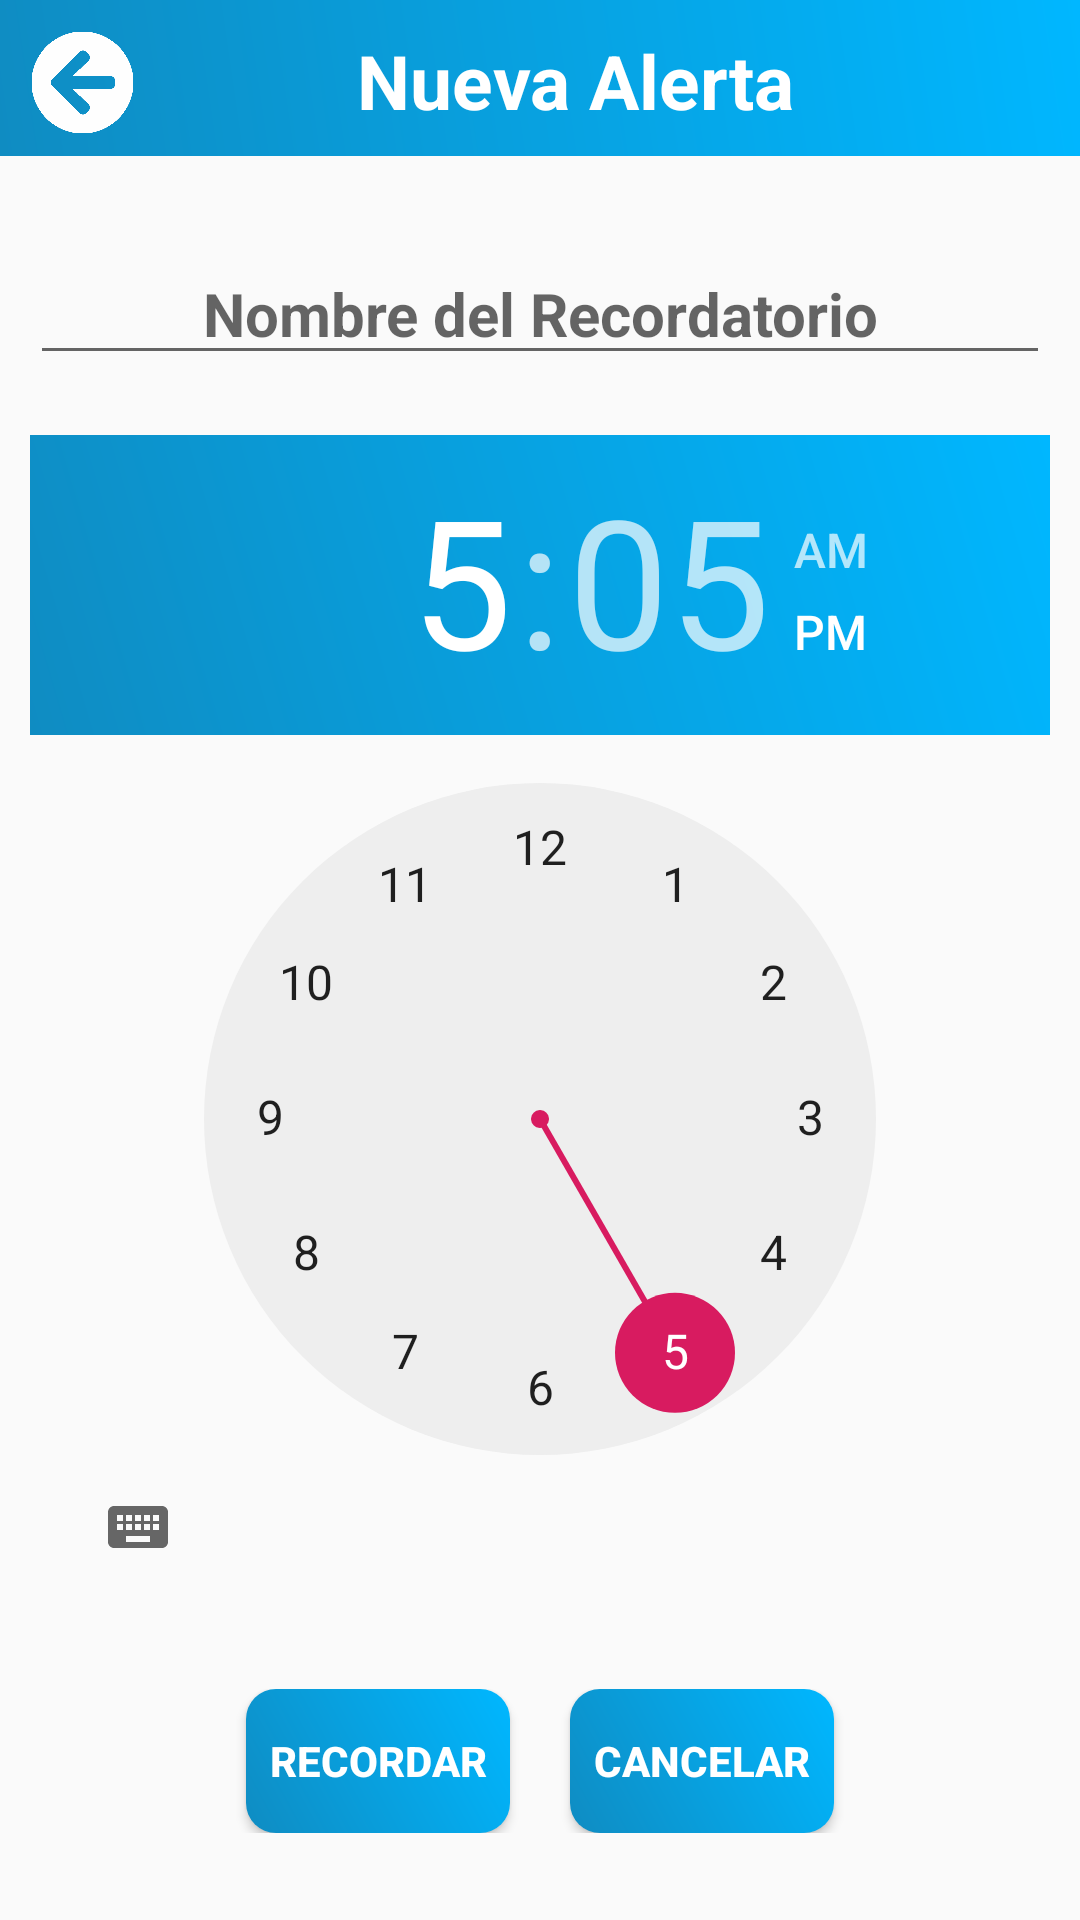

Where icons sit on this 1080w x 1920h app screen, as (x1=x1, y1=y1, x2=x2, y2=y2):
left arrow: (x1=32, y1=32, x2=133, y2=133)
